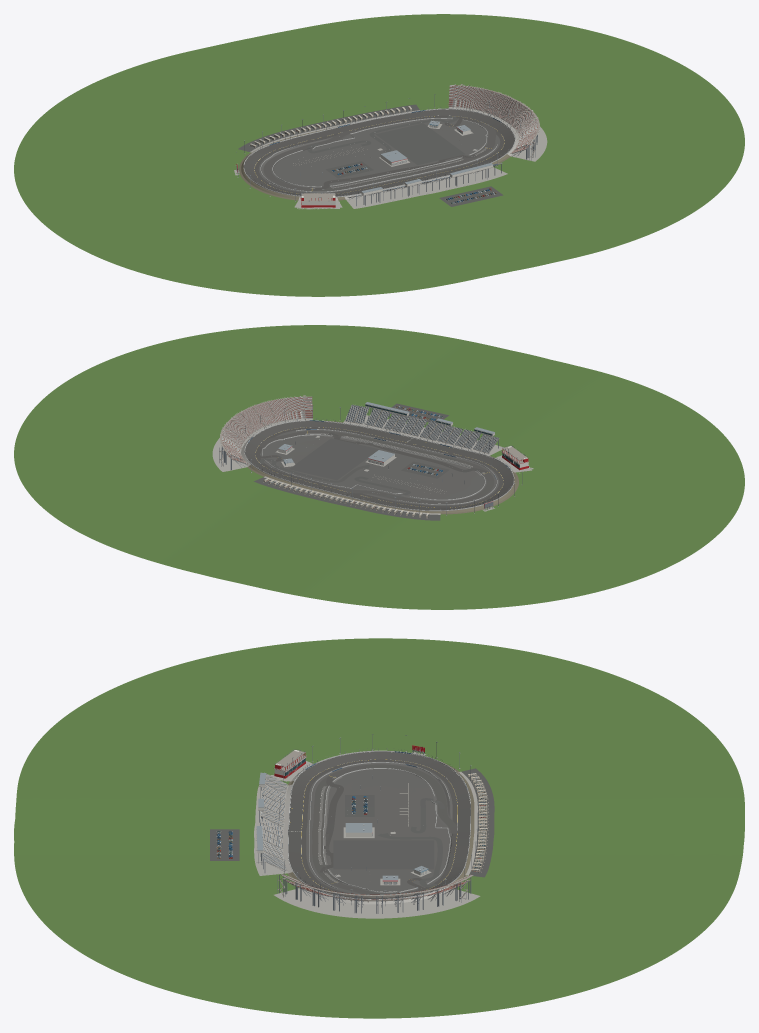
Rendered from NorthWilkesboroSpeedway.fbx.
The picture shows the model from 3 angles, top to bottom: view 1: azimuth 30°, elevation 25°; view 2: azimuth 150°, elevation 25°; view 3: azimuth 270°, elevation 25°; orthographic projection. The views are drawn at different scales.
Parts seen in each view (by area): view 1: Outer terrain 226.0–326.0 m, Outer terrain 142.0–226.0 m, Outer terrain 085.0–142.0 m, Outer terrain 051.0–085.0 m, Infield asphalt, Outer terrain 027.0–051.0 m, Racing surface, North Wilkesboro hauler and race-car parking asphalt, North Wilkesboro concrete concourse 1, Apron asphalt, North Wilkesboro exterior RV perimeter walk and camp paving, Outer terrain 014.0–027.0 m (+9 smaller); view 2: Outer terrain 226.0–326.0 m, Outer terrain 142.0–226.0 m, Outer terrain 085.0–142.0 m, Outer terrain 051.0–085.0 m, Infield asphalt, Outer terrain 027.0–051.0 m, Racing surface, North Wilkesboro hauler and race-car parking asphalt, Apron asphalt, North Wilkesboro exterior RV perimeter walk and camp paving, Outer terrain 014.0–027.0 m, Outside track wall (+8 smaller); view 3: Outer terrain 226.0–326.0 m, Outer terrain 142.0–226.0 m, Outer terrain 085.0–142.0 m, Outer terrain 051.0–085.0 m, Infield asphalt, Outer terrain 027.0–051.0 m, Racing surface, North Wilkesboro concrete concourse 9, North Wilkesboro hauler and race-car parking asphalt, Apron asphalt, North Wilkesboro exterior RV perimeter walk and camp paving, Outer terrain 014.0–027.0 m (+8 smaller).
Boxes of the visible parts, x1,y1,x2,y2 form: Outer terrain 226.0–326.0 m: (14, 14, 744, 296); Outer terrain 142.0–226.0 m: (84, 44, 674, 266); Outer terrain 085.0–142.0 m: (143, 69, 615, 241); Outer terrain 051.0–085.0 m: (184, 86, 574, 224); Infield asphalt: (258, 117, 500, 193); Outer terrain 027.0–051.0 m: (208, 96, 550, 214); Racing surface: (244, 109, 514, 196); North Wilkesboro hauler and race-car parking asphalt: (375, 123, 465, 165); North Wilkesboro concrete concourse 1: (344, 167, 507, 208); Apron asphalt: (254, 115, 504, 194); North Wilkesboro exterior RV perimeter walk and camp paving: (238, 104, 419, 152); Outer terrain 014.0–027.0 m: (225, 103, 522, 206); Outer terrain 226.0–326.0 m: (14, 325, 744, 609); Outer terrain 142.0–226.0 m: (85, 355, 673, 579); Outer terrain 085.0–142.0 m: (144, 380, 614, 554); Outer terrain 051.0–085.0 m: (184, 397, 574, 537); Infield asphalt: (260, 429, 499, 505); Outer terrain 027.0–051.0 m: (208, 407, 550, 527); Racing surface: (245, 421, 513, 510); North Wilkesboro hauler and race-car parking asphalt: (289, 438, 378, 480); Apron asphalt: (255, 427, 503, 507); North Wilkesboro exterior RV perimeter walk and camp paving: (254, 476, 440, 520); Outer terrain 014.0–027.0 m: (235, 414, 533, 520); Outside track wall: (244, 420, 514, 511); Outer terrain 226.0–326.0 m: (14, 638, 744, 1018); Outer terrain 142.0–226.0 m: (98, 674, 660, 982); Outer terrain 085.0–142.0 m: (169, 704, 589, 952); Outer terrain 051.0–085.0 m: (217, 724, 542, 932); Infield asphalt: (306, 761, 452, 894); Outer terrain 027.0–051.0 m: (245, 736, 513, 920); Racing surface: (288, 751, 470, 899); North Wilkesboro concrete concourse 9: (274, 886, 480, 918); North Wilkesboro hauler and race-car parking asphalt: (333, 840, 434, 869); Apron asphalt: (301, 759, 457, 893); North Wilkesboro exterior RV perimeter walk and camp paving: (458, 768, 494, 877); Outer terrain 014.0–027.0 m: (271, 744, 483, 892).
Size of the model in its own units: 106025 by 2638 by 86858.
